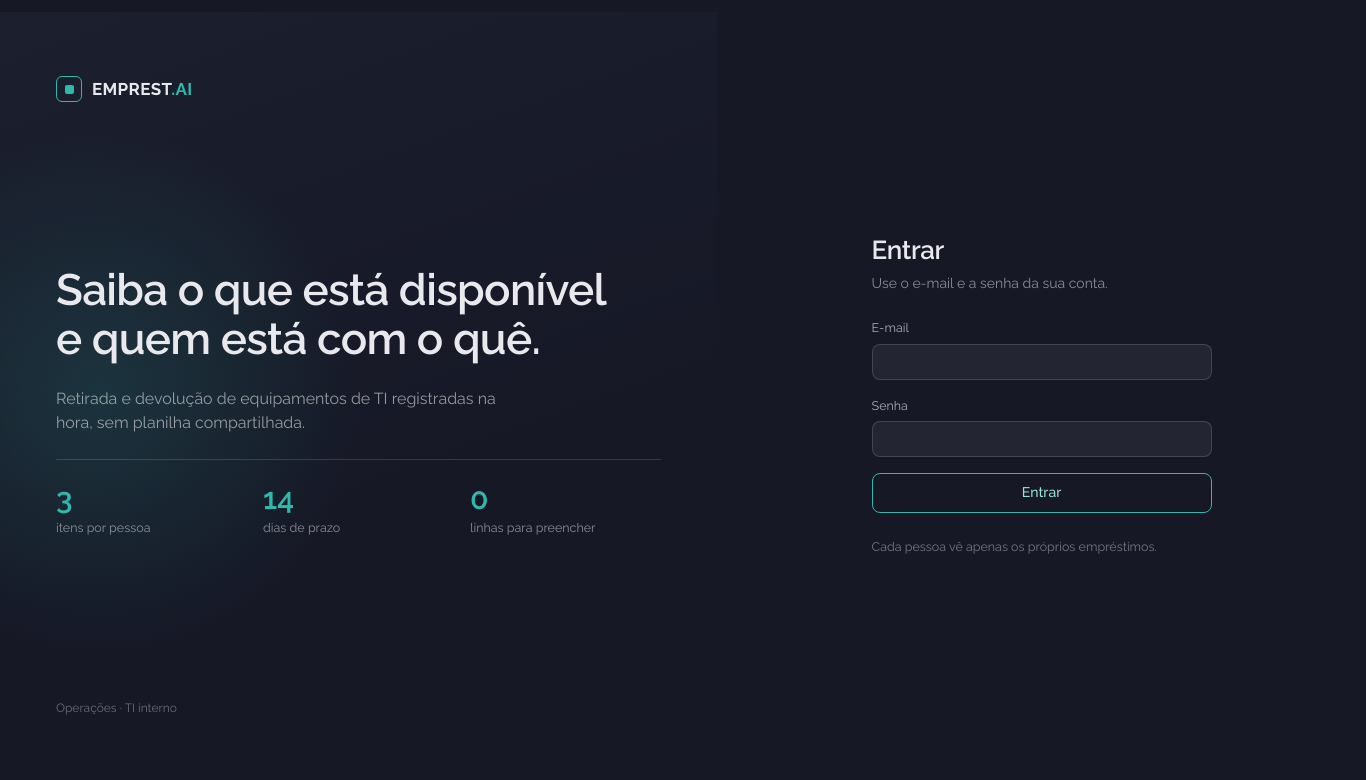
Test case: login › CA-2: conta de Operações vê a etiqueta Operações e as abas do papel
The image size is (1366, 780).
Type "ops@empresa.test" into the field labelled "E-mail".
click(1042, 362); type("ops@empresa.test")  # box [872,344,1212,380]
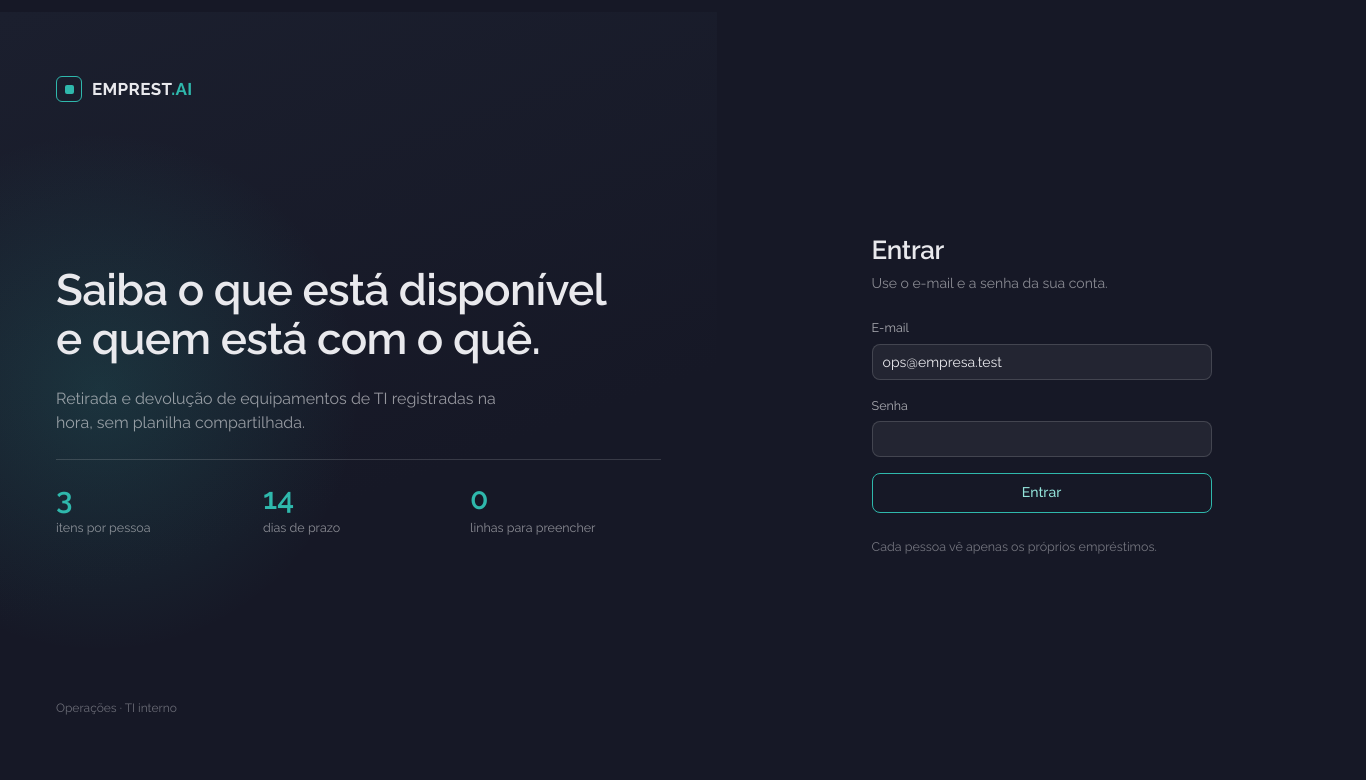
Type "senha-ops" into the password field labelled "Senha".
click(1042, 439); type("senha-ops")  # box [872,421,1212,457]
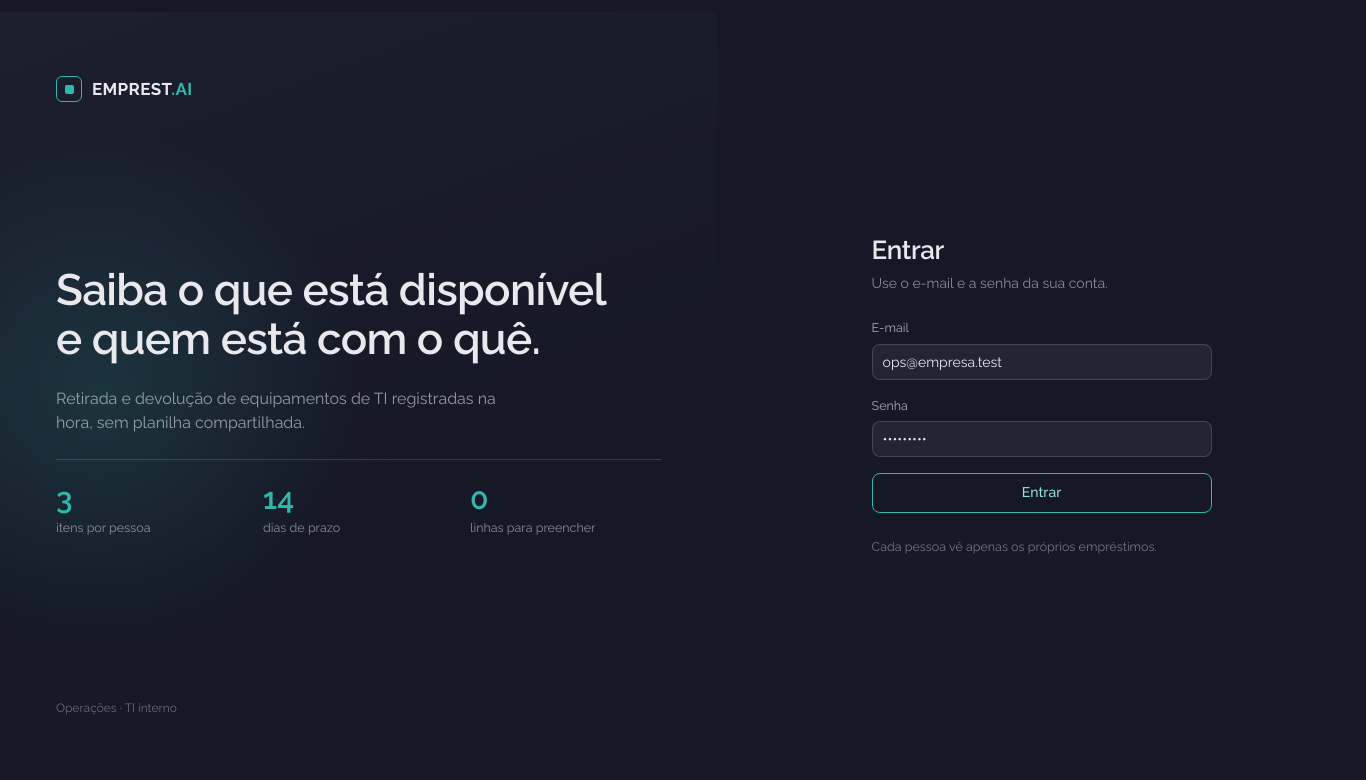
Click the button "Entrar".
click(1042, 493)  # box [872,473,1212,513]
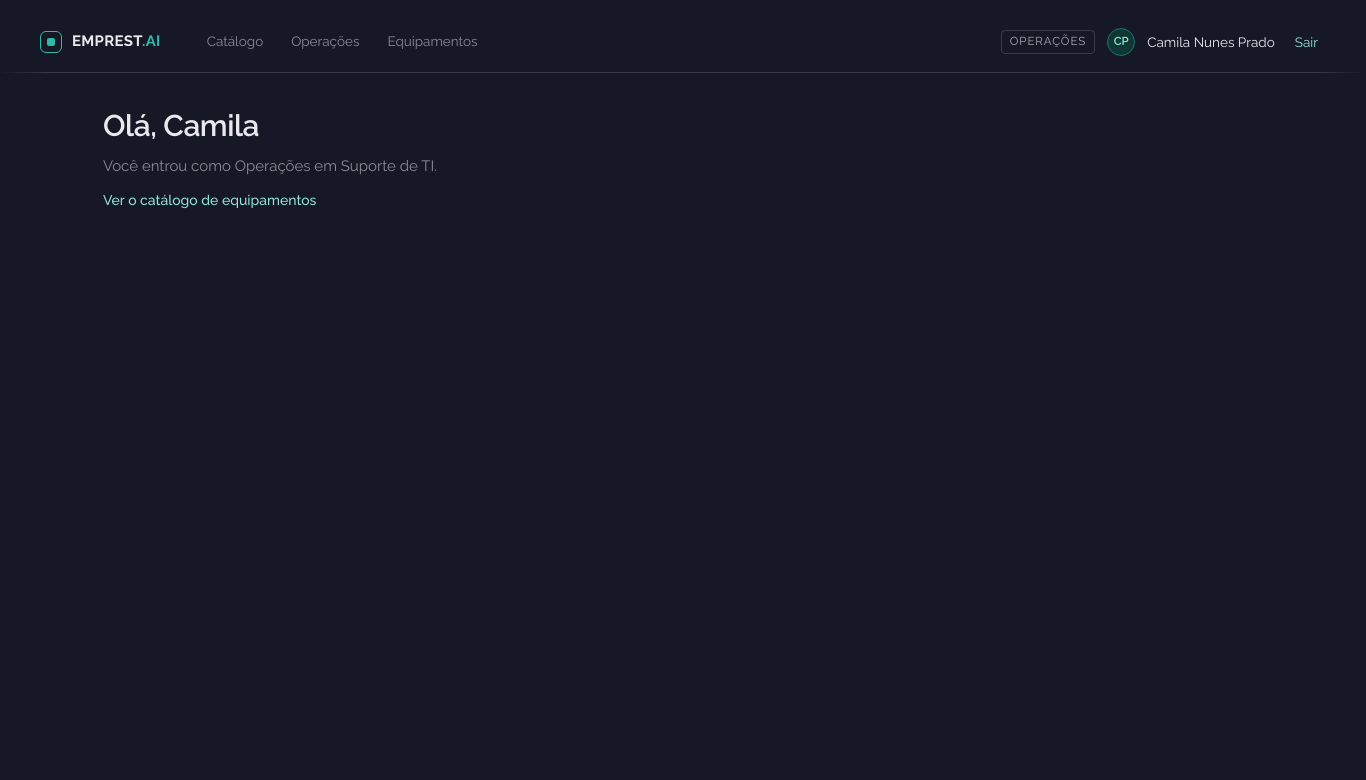
Result: the heading "Olá, Camila" is shown at [103,109,259,143]
Result: the text "CP" is shown at [1107,28,1135,56]
Result: the text "Operações" is shown at [1001,30,1095,54]
